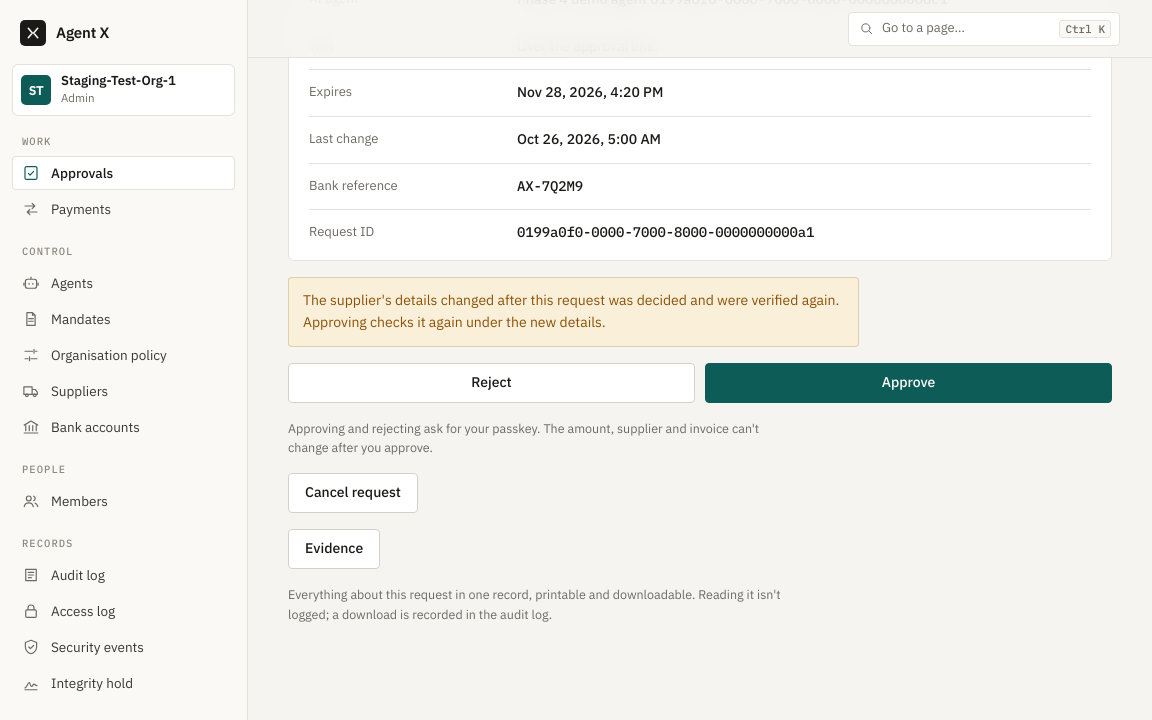
Test: one request’s page (6B1) › approves one whose supplier changed re-checked: as decided and as weighed now, in the API words
Later steps or results of the test are not shown.
(page scrolled)
expect the text "The supplier's details changed after this request was decided" is shown: met, box [303,291,839,331]
Click the button "Approve" at {"x": 908, "y": 382}, box [705,362,1112,402]
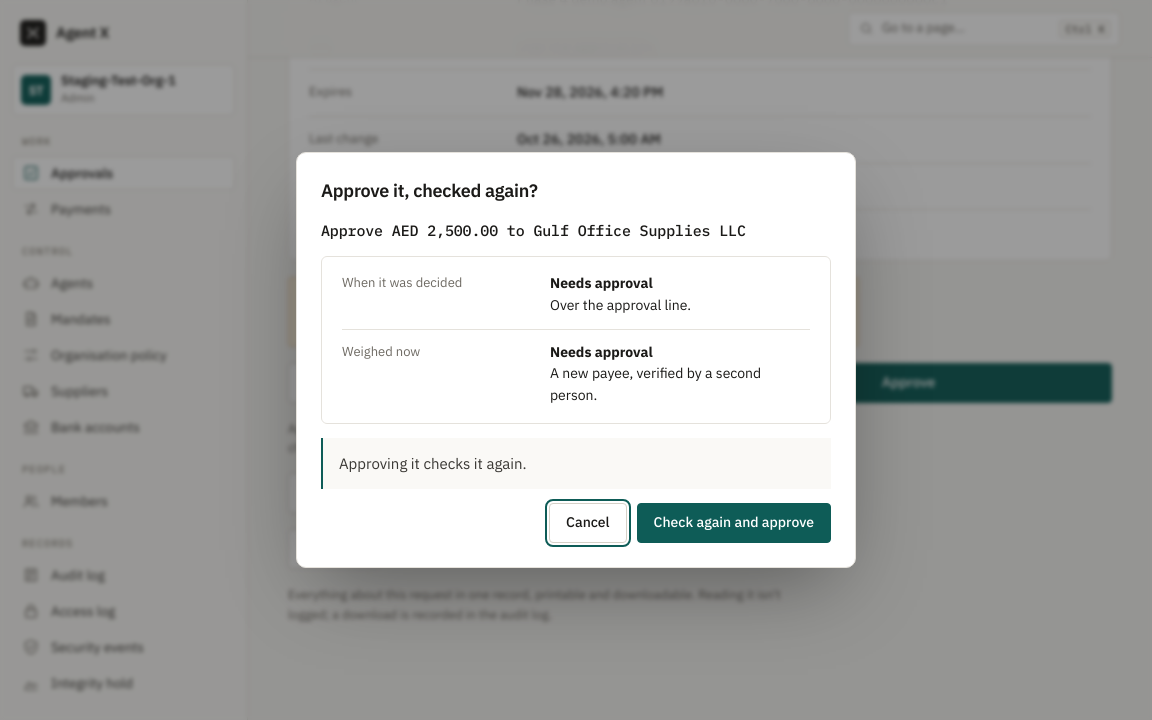
expect the text "Approving it checks it again." is shown: met, box [321,438,831,489]
expect the text "When it was decided" is shown: met, box [342,274,462,291]
expect the text "A new payee, verified by a second person." is shown: met, box [550,364,761,404]
